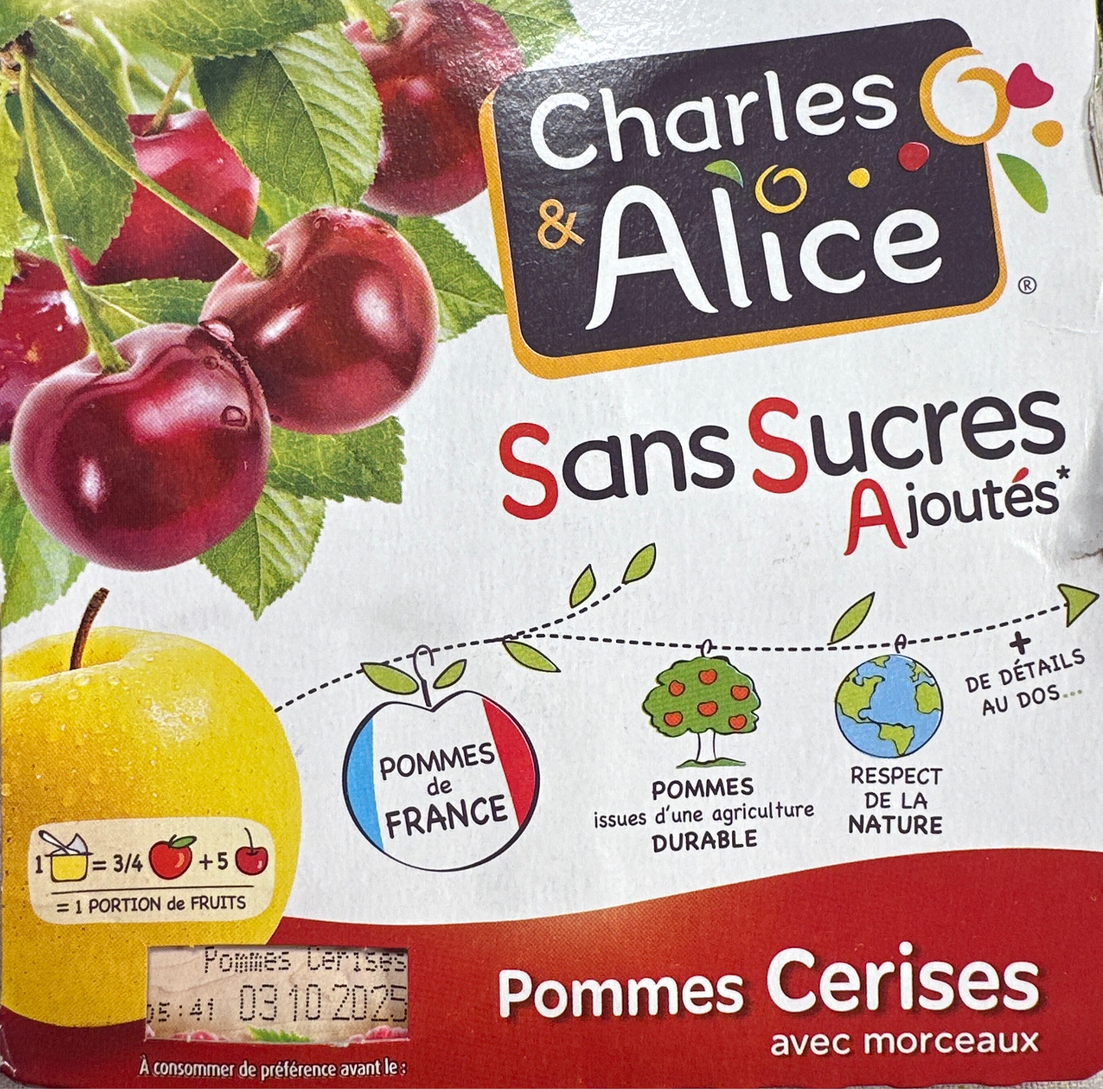Compote Pommes Cerises: (55, 54, 1048, 1035)
